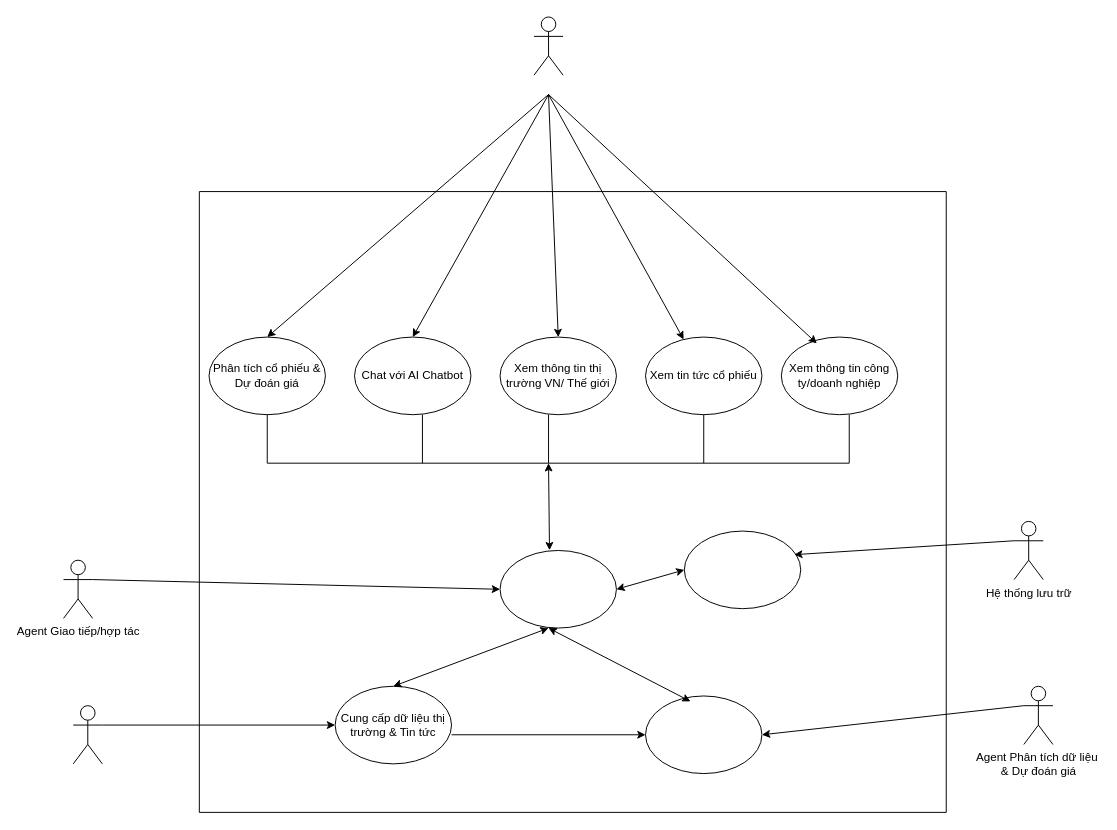
This 1117x830 diagram has some shape labels left out. Each missing label, with the centre of its shape:
Agent Thu thập dữ liệu: the point at 87,734
End users: the point at 548,45
Lưu trữ vào database: the point at 742,569
Phân tích & Dự đoán giá: the point at 703,734
Điều phối (Main Agenrt): the point at 557,589
